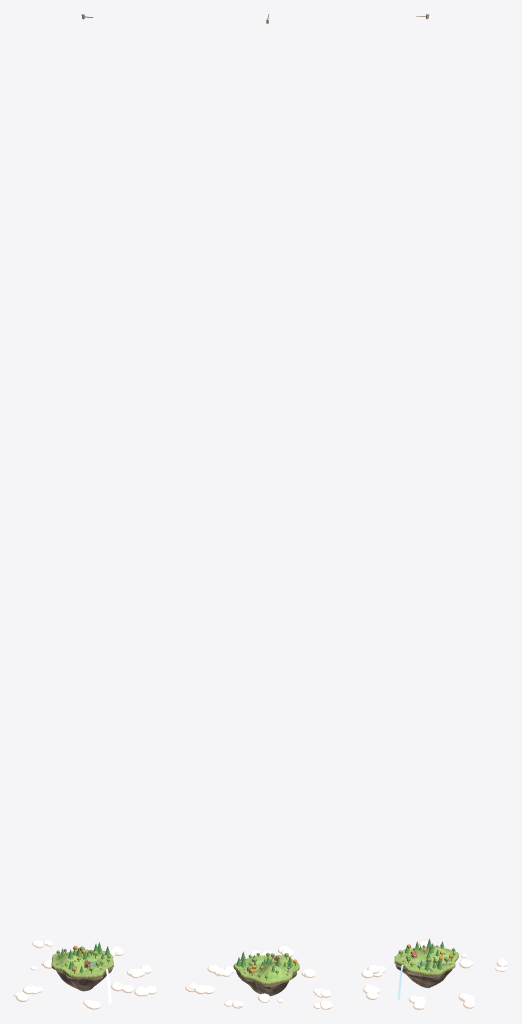
File: island.glb
The picture shows the model from 3 angles, left to right: view 1: azimuth 30°, elevation 25°; view 2: azimuth 150°, elevation 25°; view 3: azimuth 270°, elevation 25°; orthographic projection.
Visible parts, largest first — view 1: IslandTop, IslandRock; view 2: IslandTop, IslandRock; view 3: IslandTop, IslandRock.
Boxes of the visible parts, left/top/right/bottom form: IslandTop: left=51, top=949, right=113, bottom=978; IslandRock: left=56, top=968, right=112, bottom=991; IslandTop: left=233, top=955, right=299, bottom=985; IslandRock: left=236, top=971, right=296, bottom=996; IslandTop: left=394, top=946, right=458, bottom=975; IslandRock: left=395, top=964, right=452, bottom=988.
Size of the model in its own units: 28.44 by 208 by 28.21.
